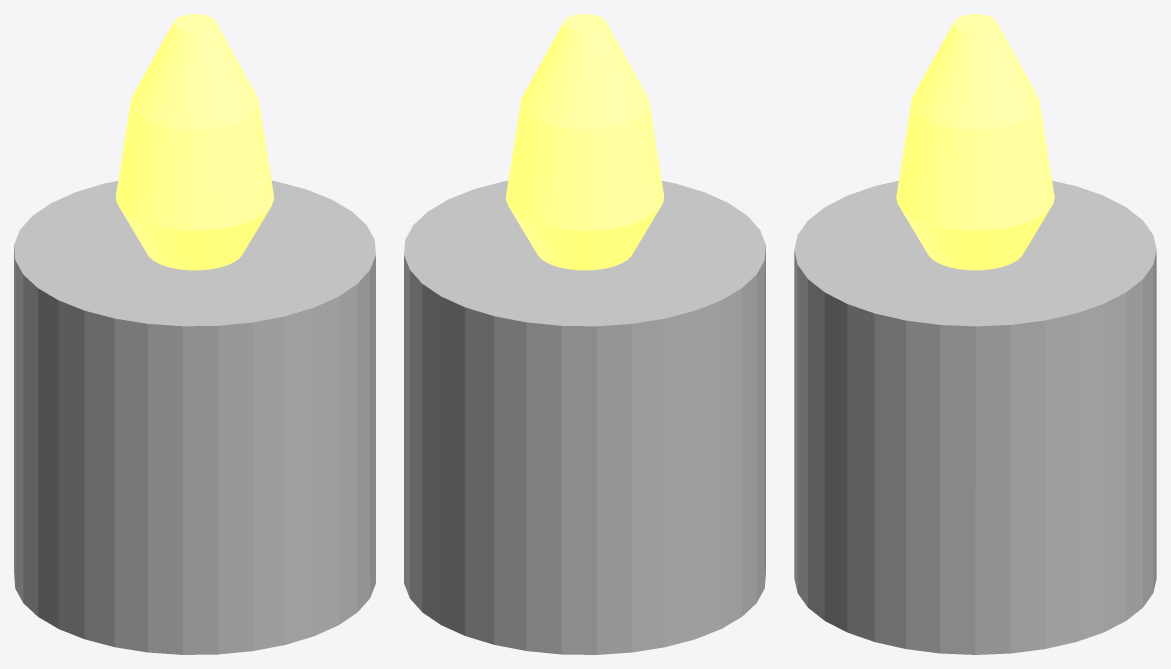
The model's file is Vela.fbx.
3 views of the same model, side by side, from view 1: azimuth 30°, elevation 25°; view 2: azimuth 150°, elevation 25°; view 3: azimuth 270°, elevation 25° (orthographic).
Visible parts, largest first — view 1: Cylinder.006; view 2: Cylinder.006; view 3: Cylinder.006.
Part boxes in pixels (box(x1,y1,x2,y2)): Cylinder.006: box(14, 14, 375, 654); Cylinder.006: box(404, 14, 765, 654); Cylinder.006: box(794, 14, 1156, 654).
Bounding box in the file's own units: 131 × 222 × 131.
